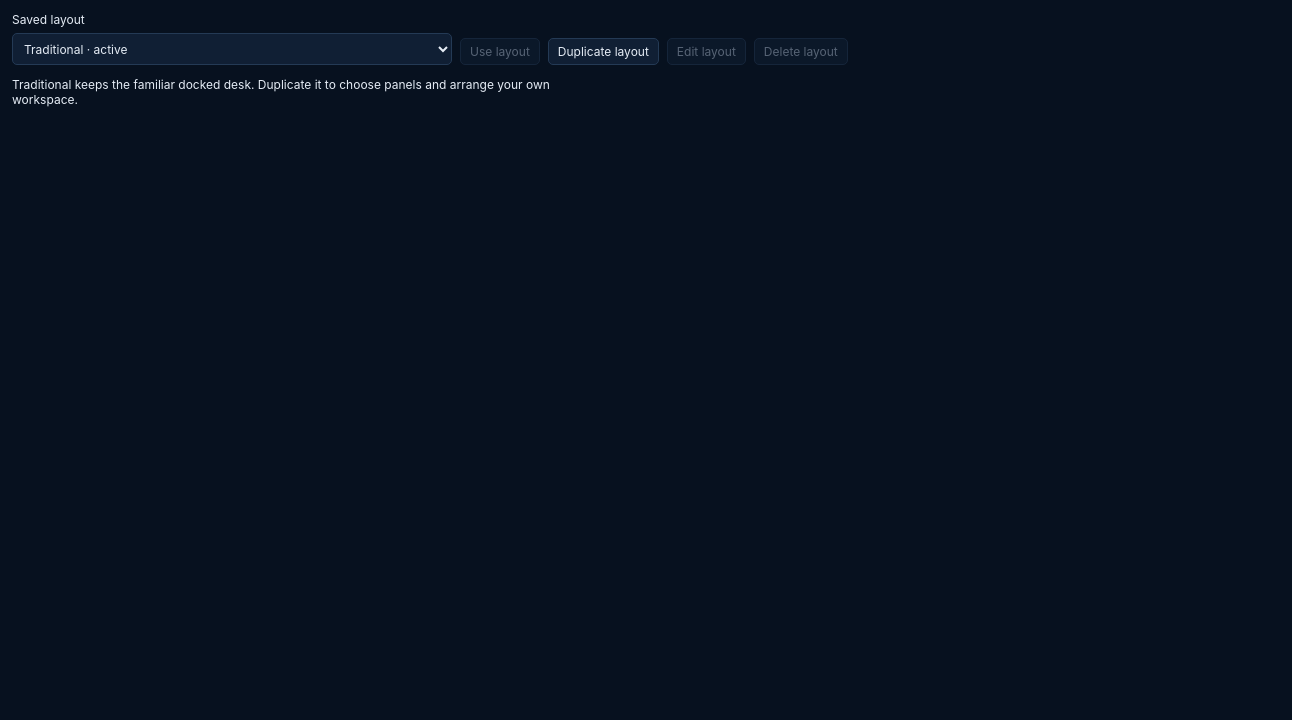
Test: renders and saves actual Workspace Settings placements after a complete native read
Click the button "Duplicate layout". click: (603, 52)
box: x1=548 y1=38 x2=659 y2=65
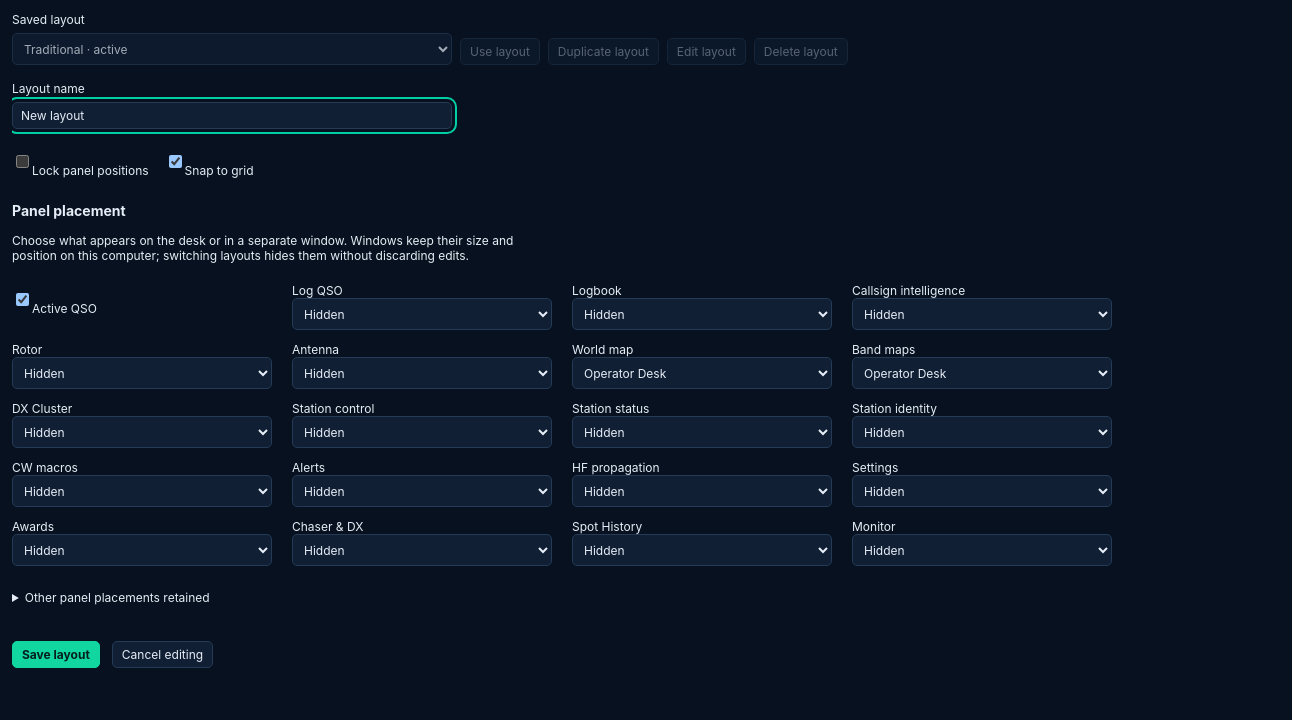
Expected: the dropdown named "Logbook placement" is enabled
Expected: the dropdown named "Log QSO placement" is shown, x1=292 y1=298 x2=552 y2=330
Expected: the dropdown named "Spot History placement" is shown, x1=572 y1=534 x2=832 y2=566
Select "Separate window" in the dropdown named "Logbook placement". click: (702, 314)
box: x1=572 y1=298 x2=832 y2=330
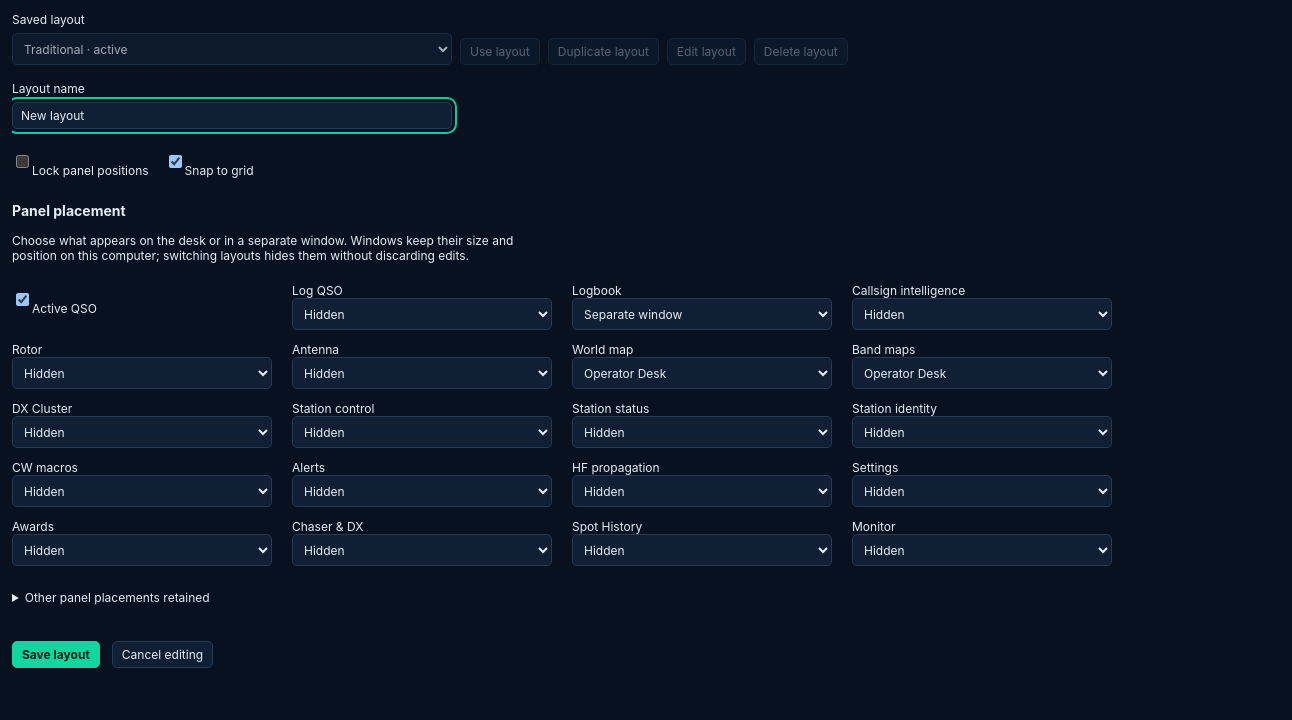
Click the button "Save layout". click: (56, 654)
box: x1=12 y1=641 x2=100 y2=668
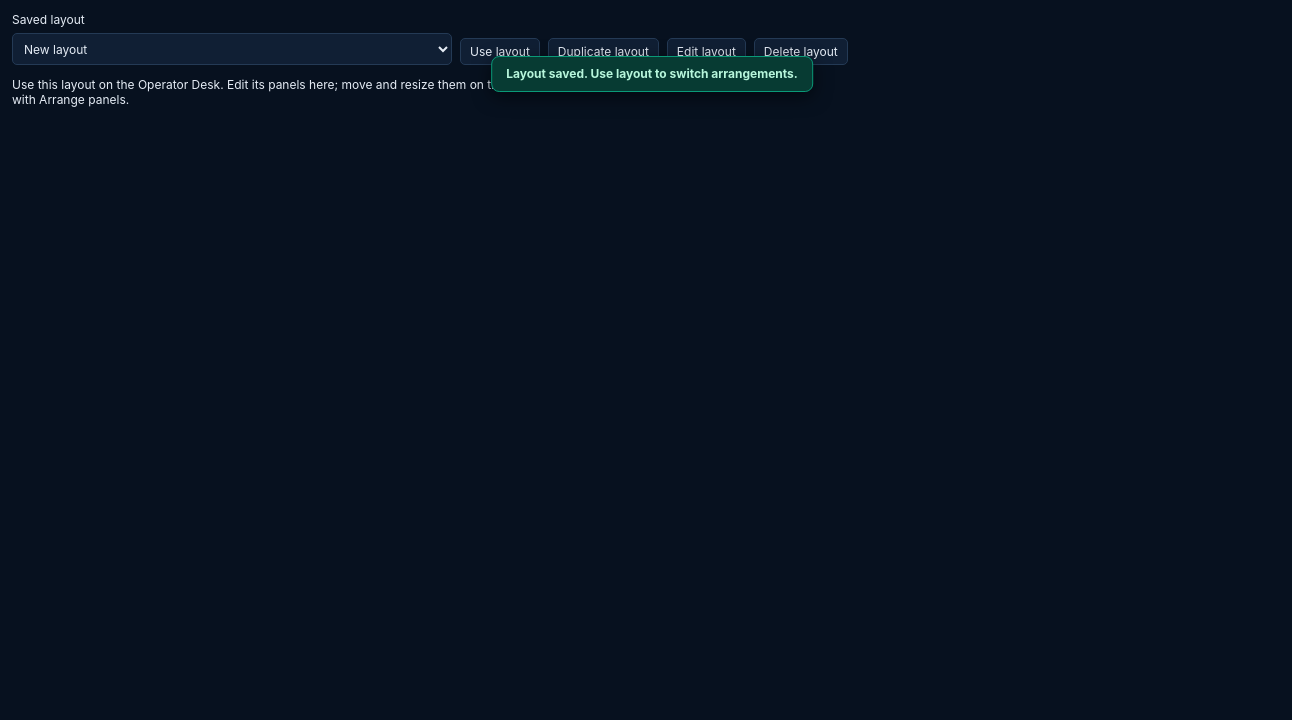
Expected: the text "Layout saved. Use layout to switch arrangements." is shown, x1=491 y1=56 x2=813 y2=92
